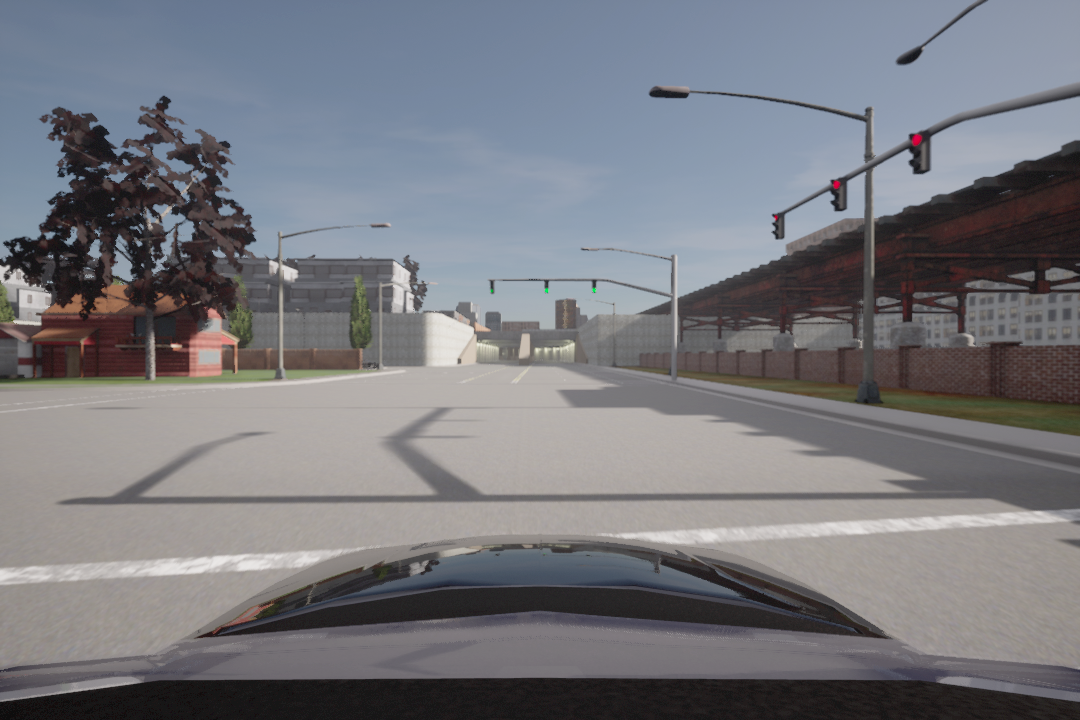TrafficLight: (907, 127, 936, 179), (767, 213, 788, 242), (831, 177, 847, 215), (590, 279, 597, 295), (544, 278, 550, 295), (488, 280, 494, 294)
